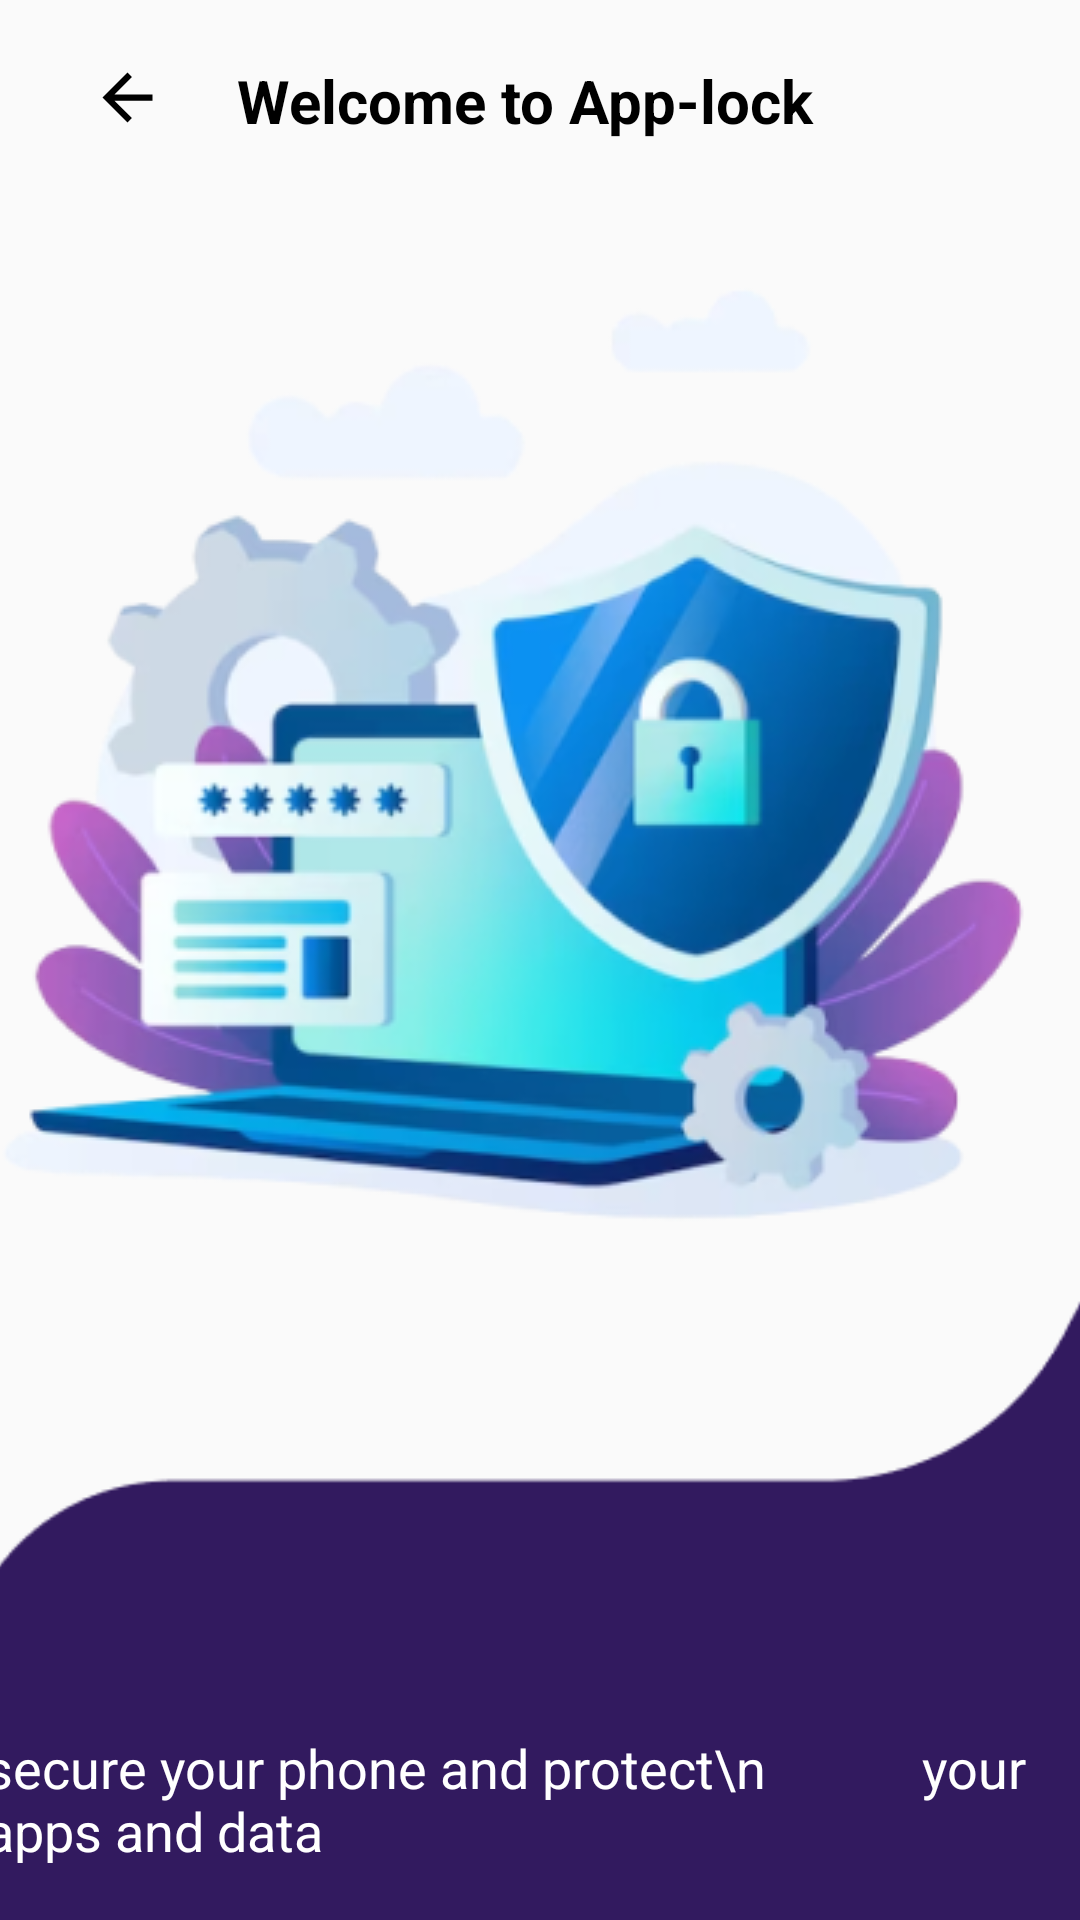

Icons on this 1080px×1920px Android screen, each with the point to tap as (x=x, y=y):
Back Arrow: (x=127, y=97)
